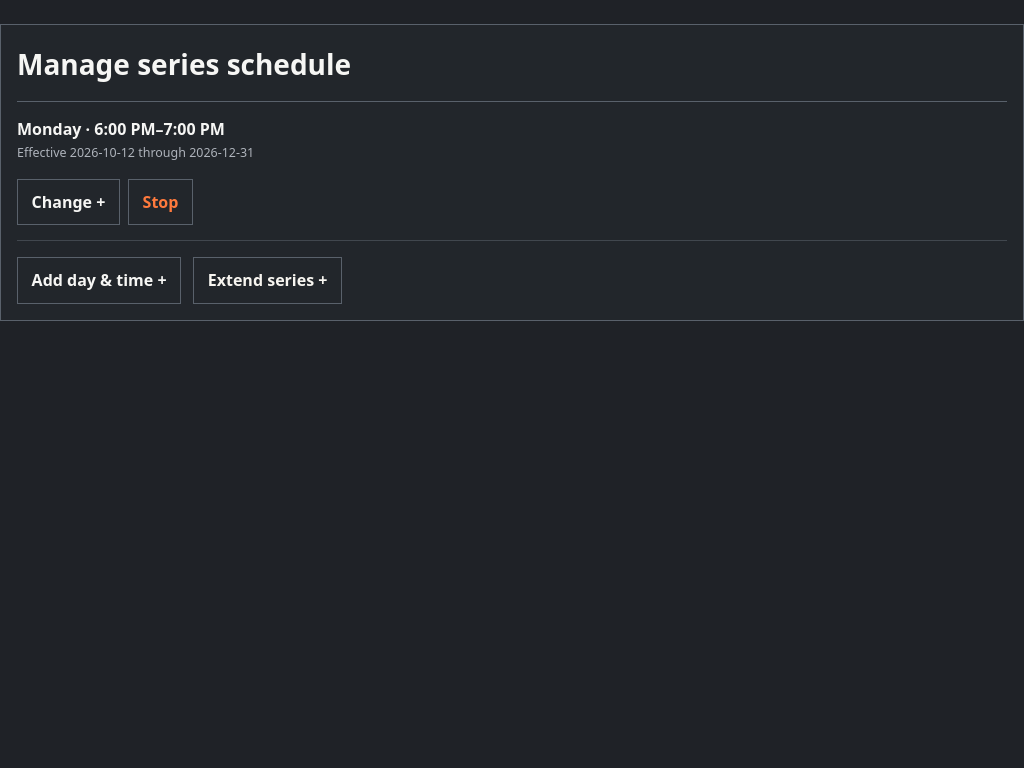
Scenario: RecurrenceScheduleManager add-day guardrails › blocks Add schedule with inline copy when the weekday is already scheduled
Step 1. Click the button "Add day & time +" → (99, 280), box [17,257,181,304]
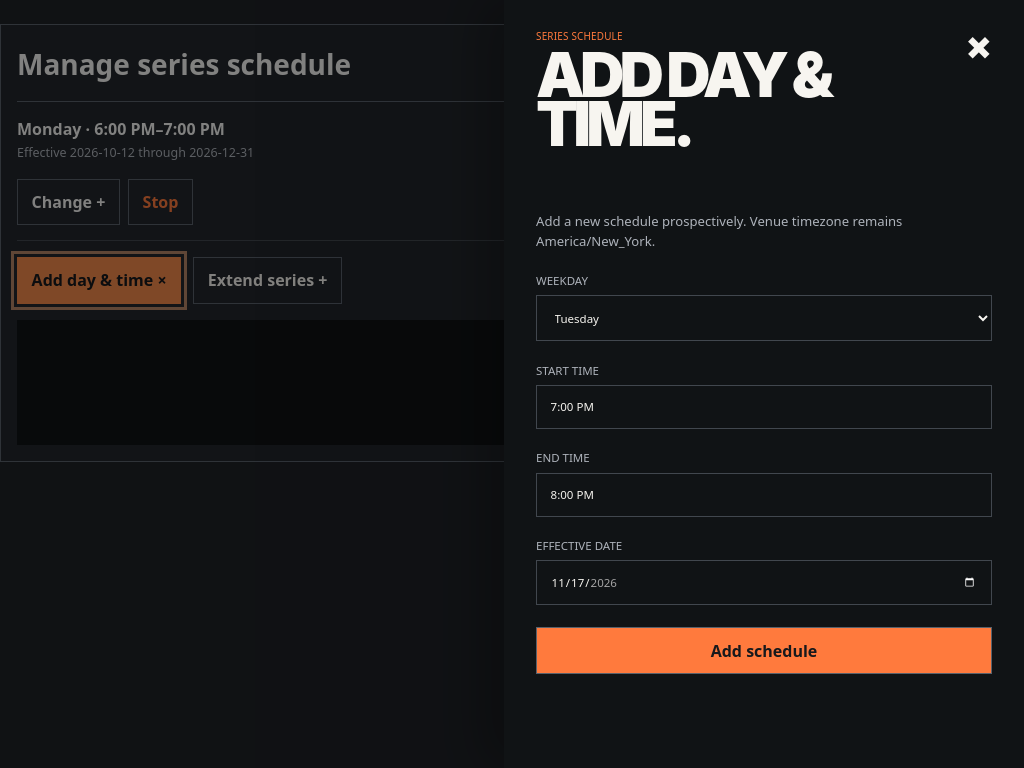
Step 2. Select "Monday" in the dropdown labelled "Weekday" → (764, 318), box [536,295,992,341]
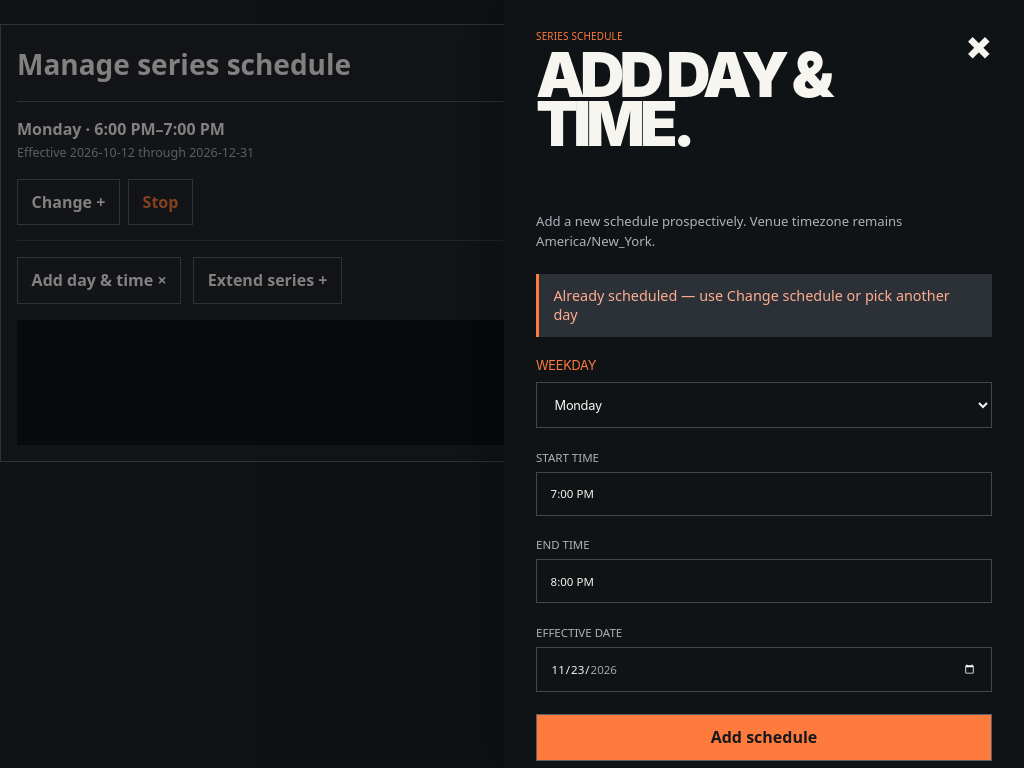
Now the message reads "Already scheduled — use Change schedule or pick another day", box [553,286,950,324]
Now the button "Add schedule" is disabled, box [536,714,992,761]
